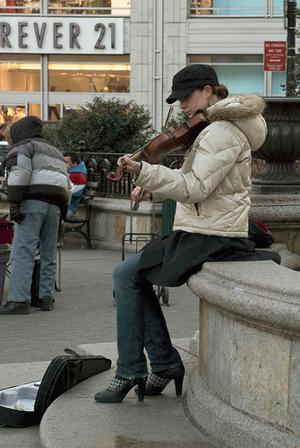person: (94, 65, 253, 406)
